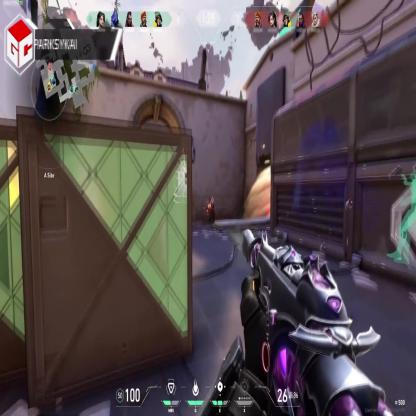enemy: (208, 193, 216, 221)
enemy_head: (209, 194, 214, 202)
